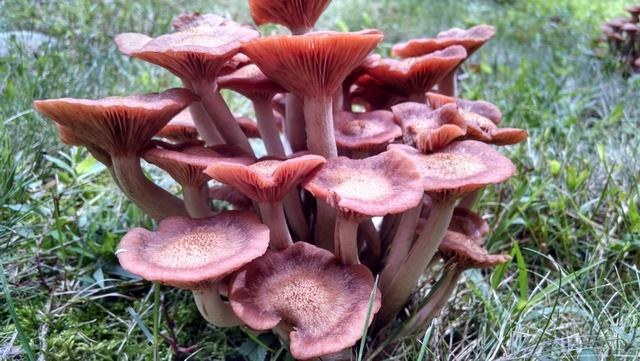edible_mushroom: (33, 1, 528, 358)
